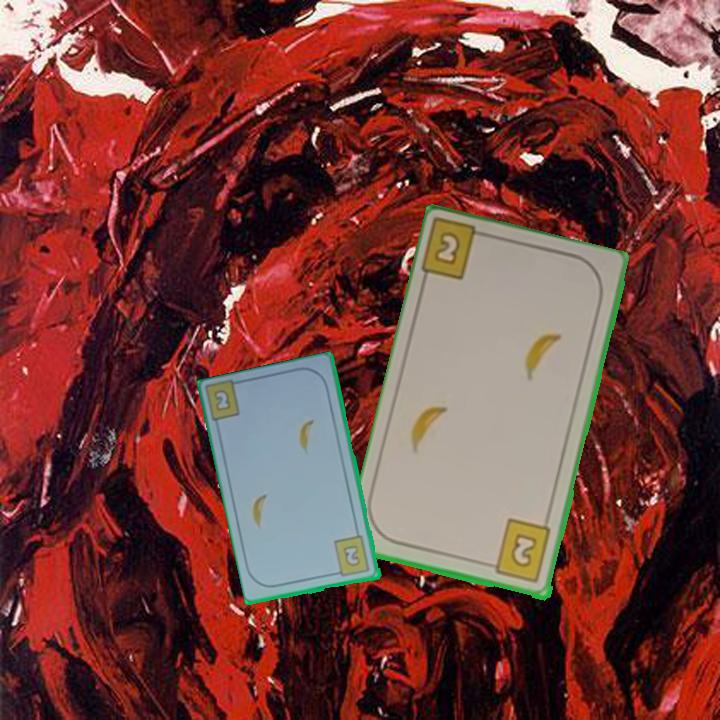2b: (483, 516, 555, 586), (419, 218, 495, 284), (331, 533, 373, 580), (210, 386, 234, 414)
